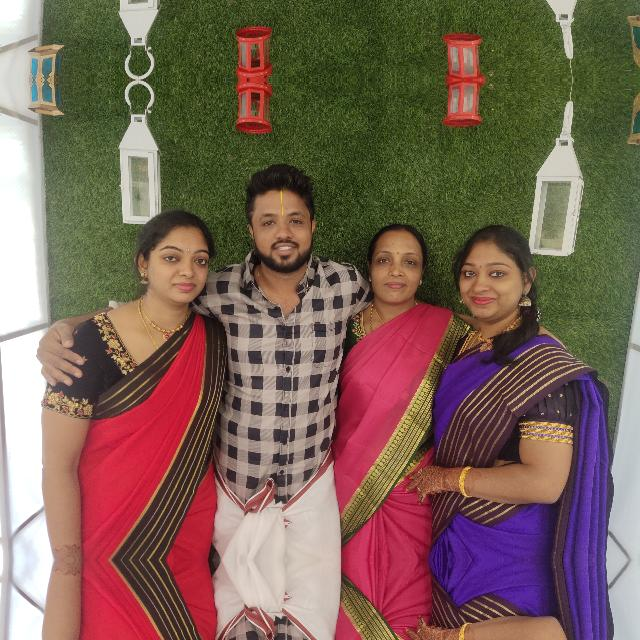person: (450, 208, 566, 396), (241, 147, 329, 329), (109, 204, 224, 336), (356, 198, 442, 346), (241, 0, 329, 13)
